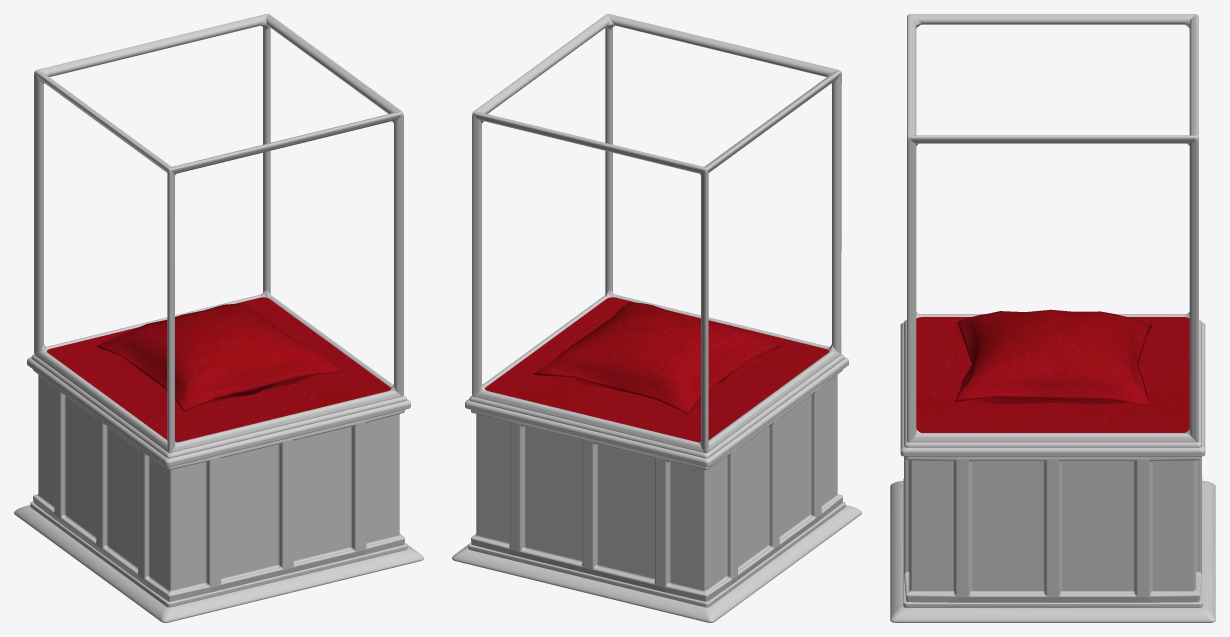
File: DisplayCase.fbx
3 renders of one model, left to right at view 1: azimuth 30°, elevation 25°; view 2: azimuth 150°, elevation 25°; view 3: azimuth 270°, elevation 25°, orthographic. The views are drawn at different scales.
Visible parts, largest first — view 1: DisplayCase; view 2: DisplayCase; view 3: DisplayCase.
Part boxes in pixels (<box>): DisplayCase: <box>14,14,423,622</box>; DisplayCase: <box>452,14,861,622</box>; DisplayCase: <box>890,14,1215,622</box>.
Size of the model in its own units: 157 by 255 by 157.
